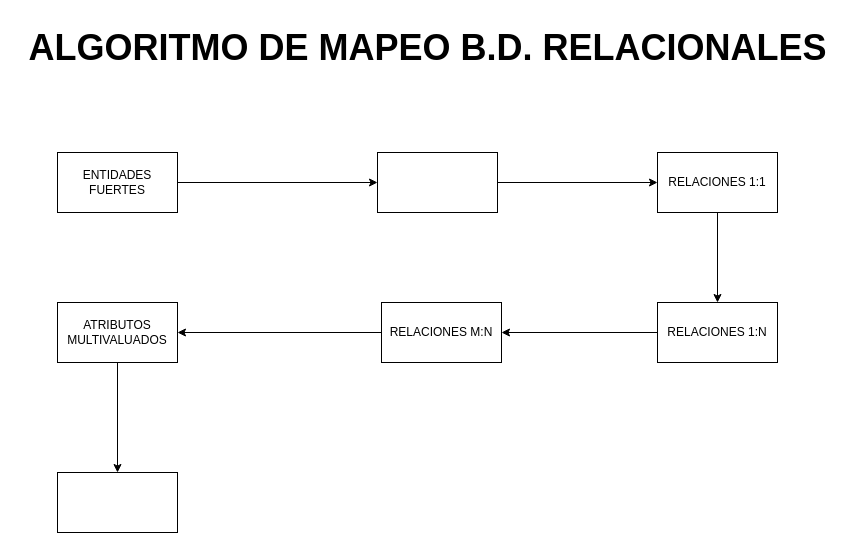
The diagram is 854 pixels wide and 550 high, and some of its shapes have lost their labels. Each missing label, with the centre of its shape:
"ENTIDADES DÉBILES" belongs at pixel 437 182.
"RELACIONES DE N-ARIOS" belongs at pixel 117 502.
